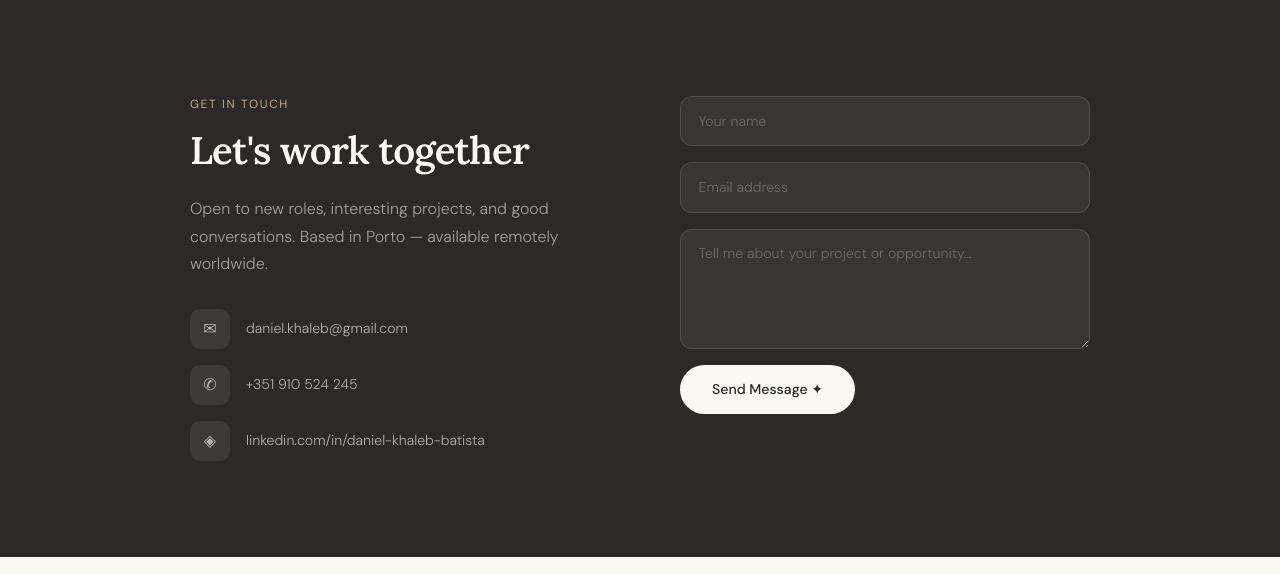
Scenario: Contact › shows loading state while submitting
Type "John" into the field with placeholder "Your name". click: (885, 121)
box: [680,96,1090,146]
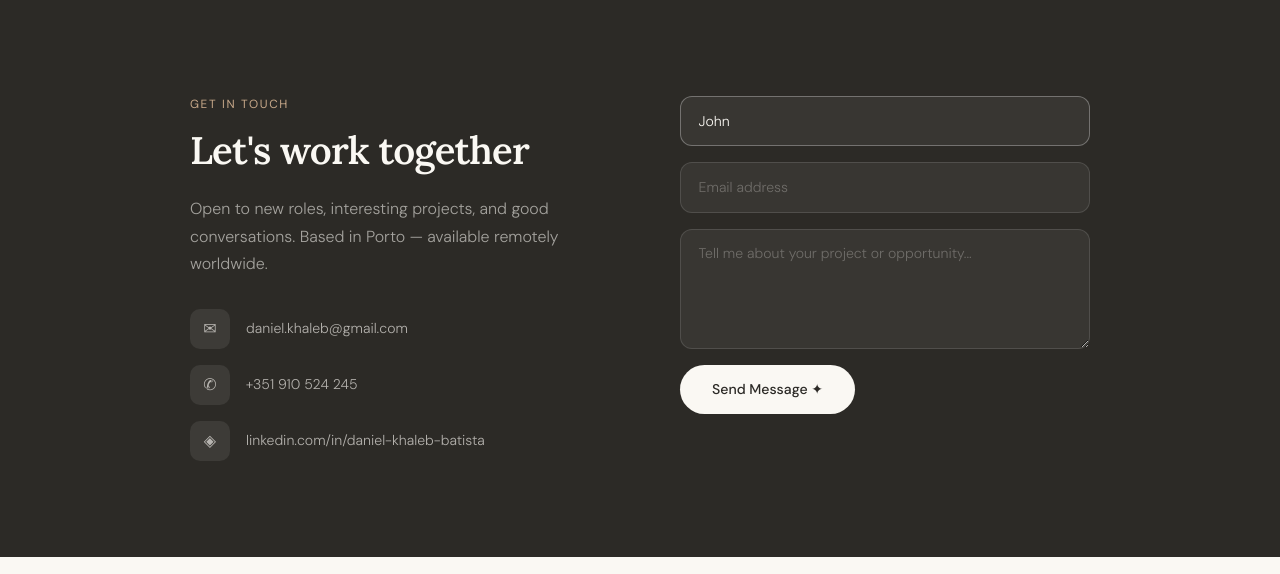
Type "john@example.com" into the field with placeholder "Email address". click: (885, 187)
box: [680,162,1090,213]
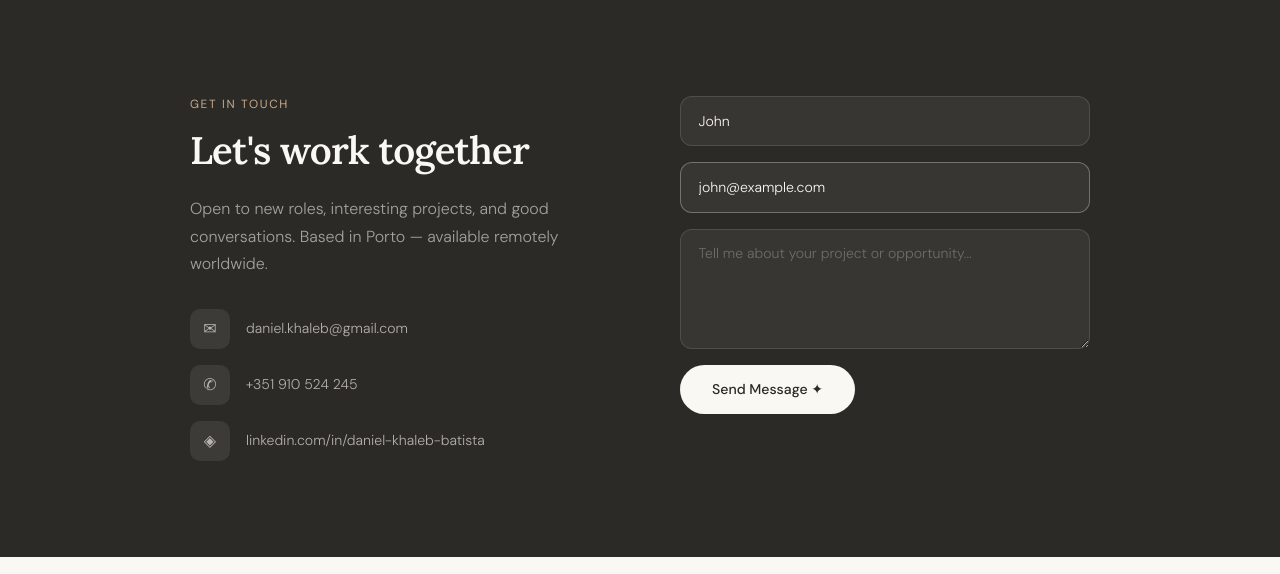
Type "Hello!" into the text box with placeholder "Tell me about your project or opportunity...". click: (885, 289)
box: [680,229,1090,349]
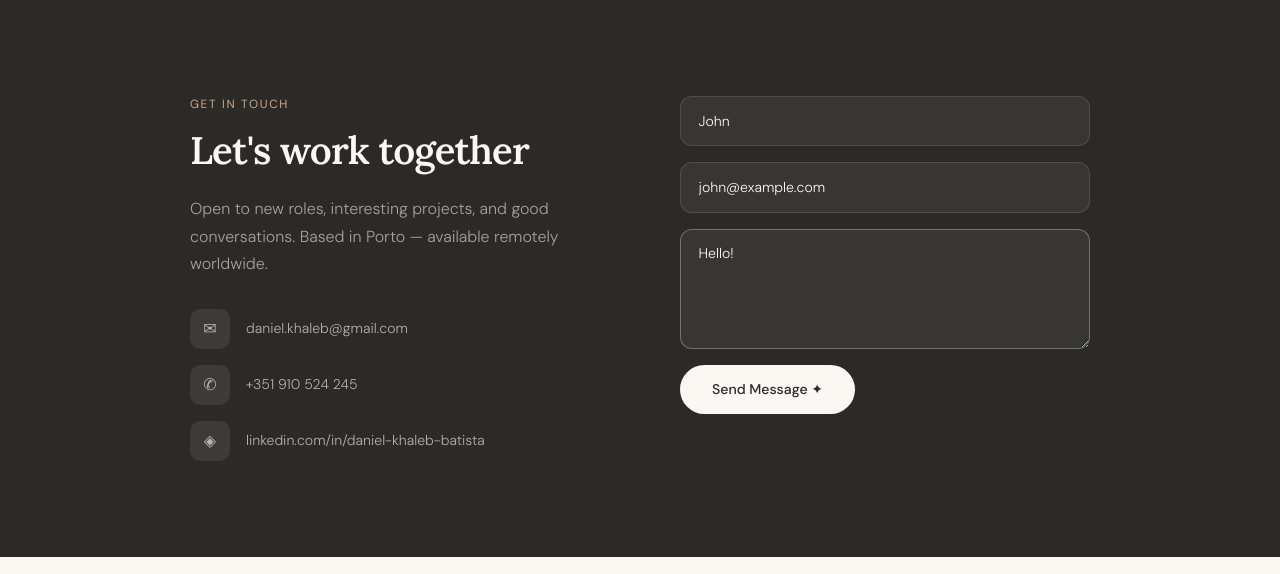
Click the button "Send Message ✦". click: (768, 390)
box: [680,365,855,414]
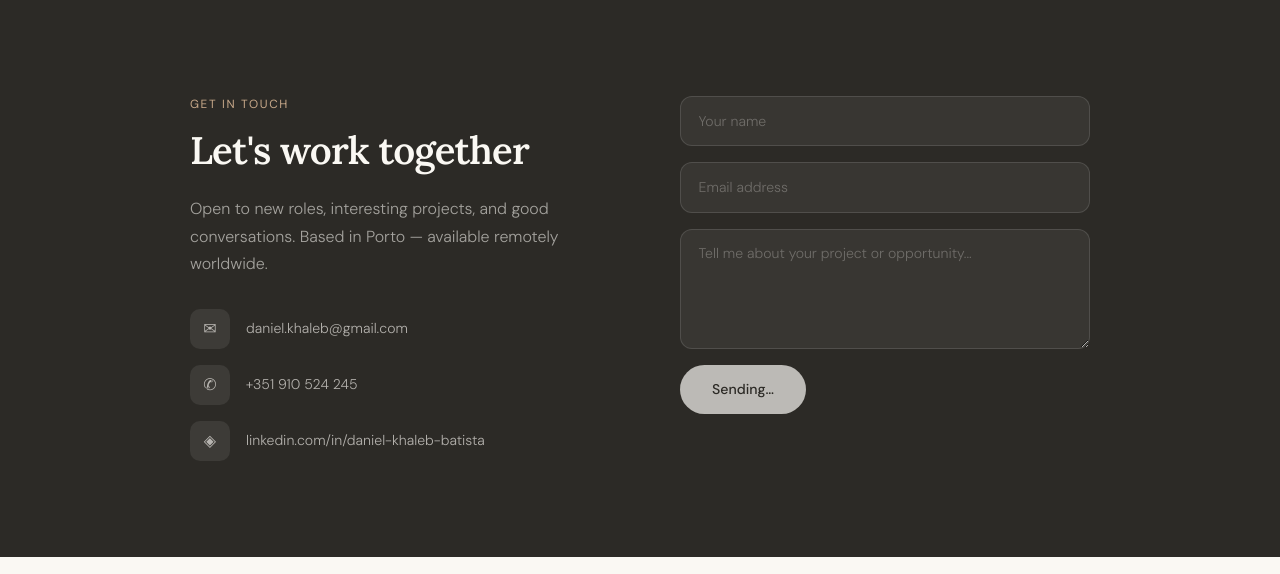
Now the button "Sending…" is disabled, box [680,365,806,414]
